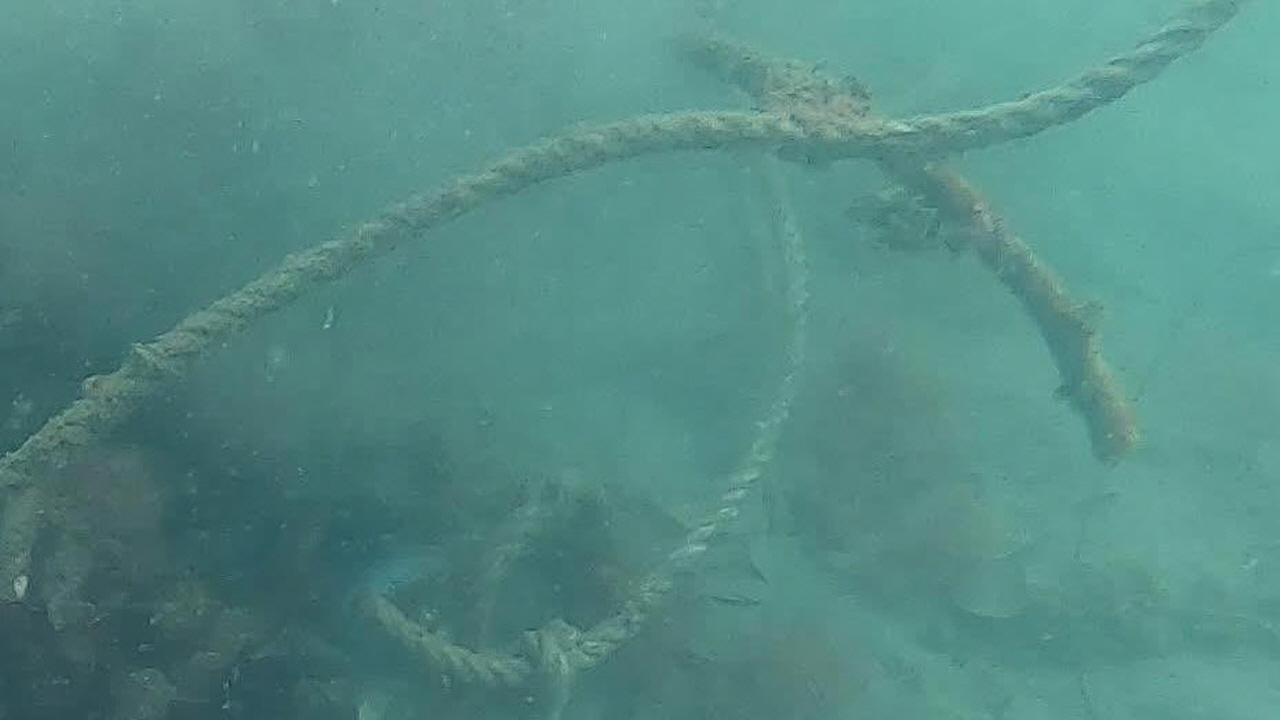bundle of ropes: (360, 28, 1138, 701)
rope: (0, 0, 1240, 501)
